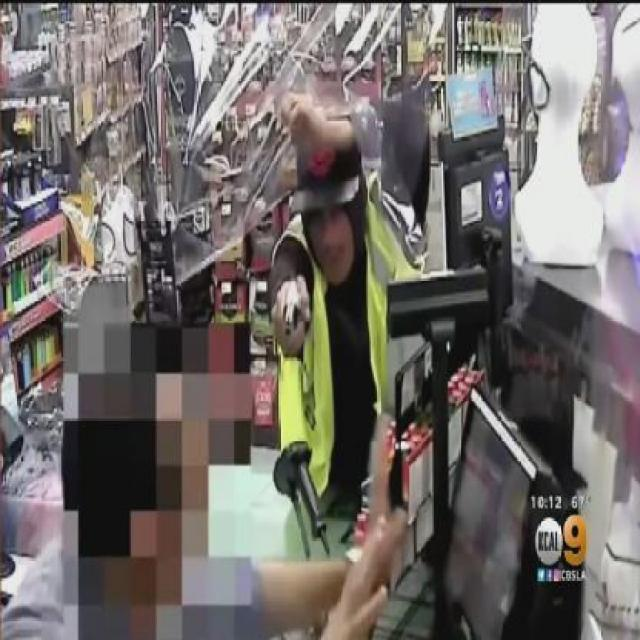Gun: (273, 289, 312, 351)
